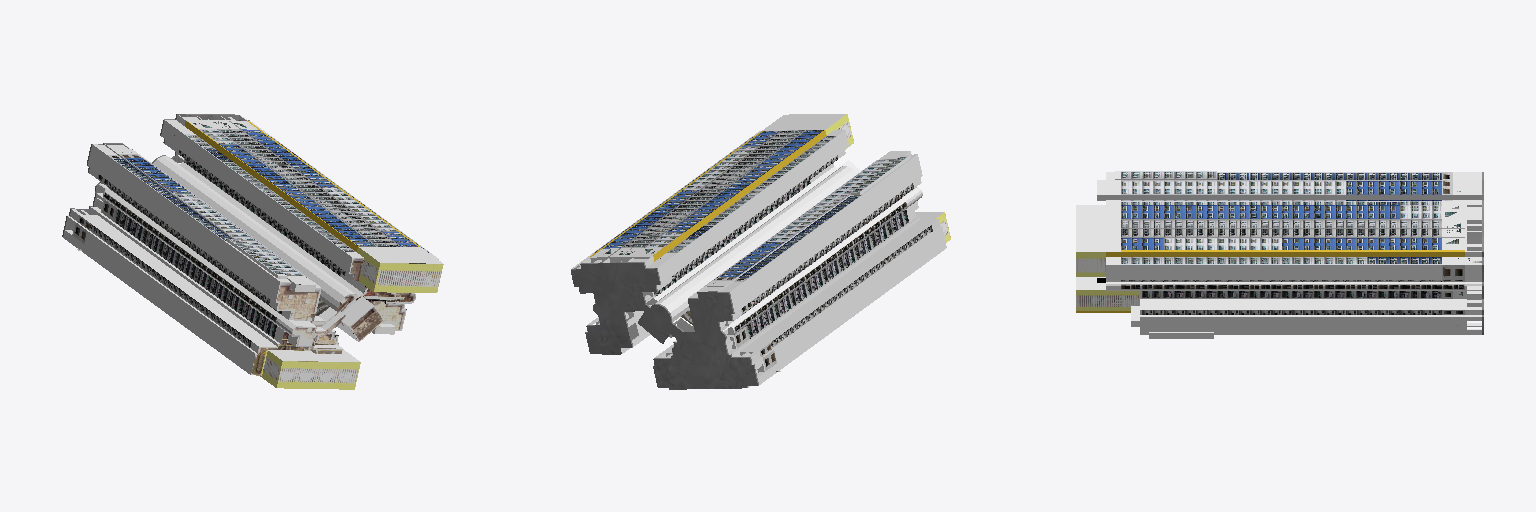
3 views of the same model, side by side, from view 1: azimuth 30°, elevation 25°; view 2: azimuth 150°, elevation 25°; view 3: azimuth 270°, elevation 25° (orthographic).
Parts seen in each view (by area): view 1: polygon.776; view 2: polygon.776; view 3: polygon.776.
Boxes of the visible parts, x1=… form: polygon.776: x1=62, y1=114, x2=443, y2=389; polygon.776: x1=571, y1=114, x2=950, y2=389; polygon.776: x1=1076, y1=171, x2=1483, y2=338.
Bounding box in the file's own units: 54.17 × 33.72 × 99.91.
Materials: 1 (1 with a texture image).